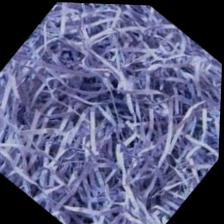paper: (0, 2, 221, 223)
